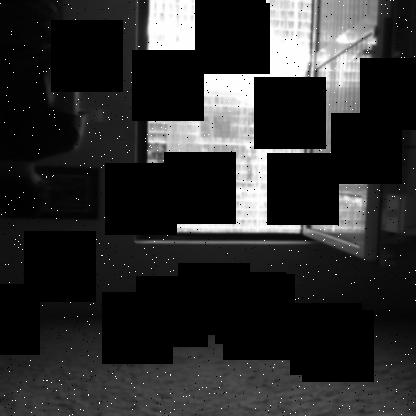Porte: (134, 1, 394, 271)
